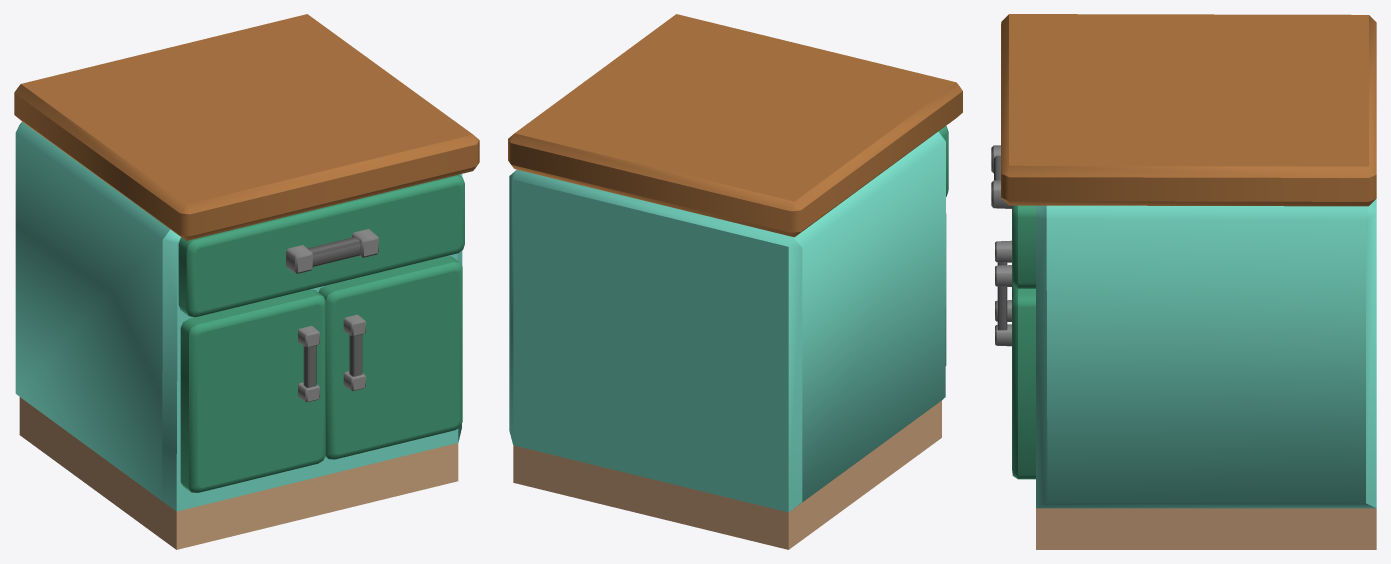
Rendered from Furnit_C_2.glb.
The picture shows the model from 3 angles, left to right: view 1: azimuth 30°, elevation 25°; view 2: azimuth 150°, elevation 25°; view 3: azimuth 270°, elevation 25°; orthographic projection. The views are drawn at different scales.
Visible parts, largest first — view 1: Furnit_C_2, Furnit_C_2_CL, Furnit_C_2_CR; view 2: Furnit_C_2; view 3: Furnit_C_2, Furnit_C_2_CR, Furnit_C_2_CL.
Boxes of the visible parts, bbox=[...] form: Furnit_C_2: bbox=[14, 14, 479, 549]; Furnit_C_2_CL: bbox=[180, 289, 325, 492]; Furnit_C_2_CR: bbox=[318, 256, 462, 459]; Furnit_C_2: bbox=[508, 14, 962, 549]; Furnit_C_2: bbox=[991, 14, 1376, 549]; Furnit_C_2_CR: bbox=[995, 265, 1035, 479]; Furnit_C_2_CL: bbox=[995, 240, 1011, 321].
Bounding box in the file's own units: 0.9 × 1.02 × 0.9237.
Materials: 1 (1 with a texture image).
